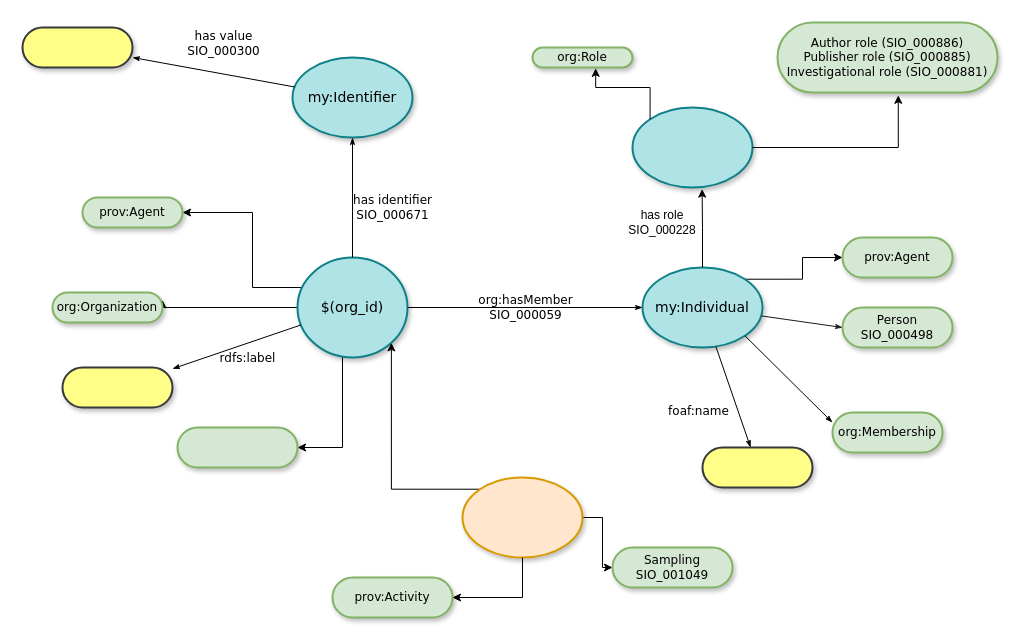
Image size: 1021x642. Some labels were removed from this diagram. Here are the shapes that lost their labels. From the top down, the centre of each, then its label:
the point at 78,48: BGV123 (string)
the point at 693,148: my:Role
the point at 118,388: Orgname (string)
the point at 238,448: Organization SIO_000012
the point at 758,468: name (string)
the point at 523,518: this:$(bgvid)# Collection
